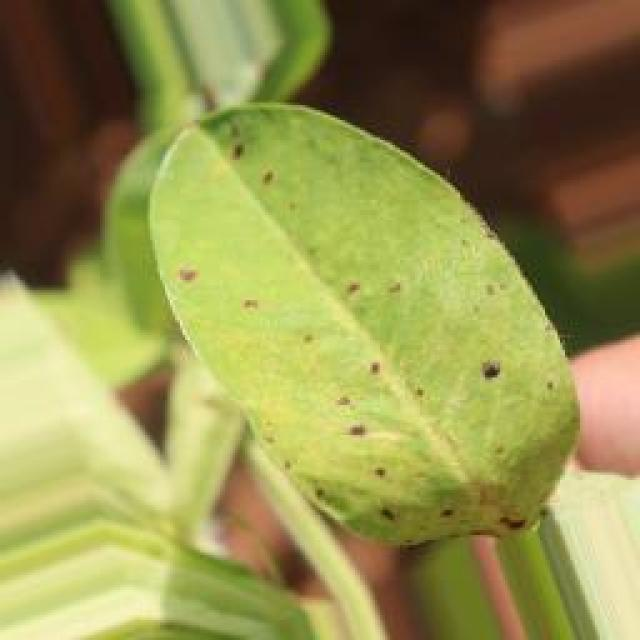Sigatoka: (257, 413, 375, 531), (334, 384, 416, 512), (329, 217, 425, 303), (198, 134, 298, 210), (457, 475, 542, 539), (459, 326, 534, 394), (432, 198, 498, 271), (217, 270, 283, 334), (480, 261, 521, 332), (280, 302, 324, 360), (516, 366, 560, 418), (157, 254, 217, 291)
